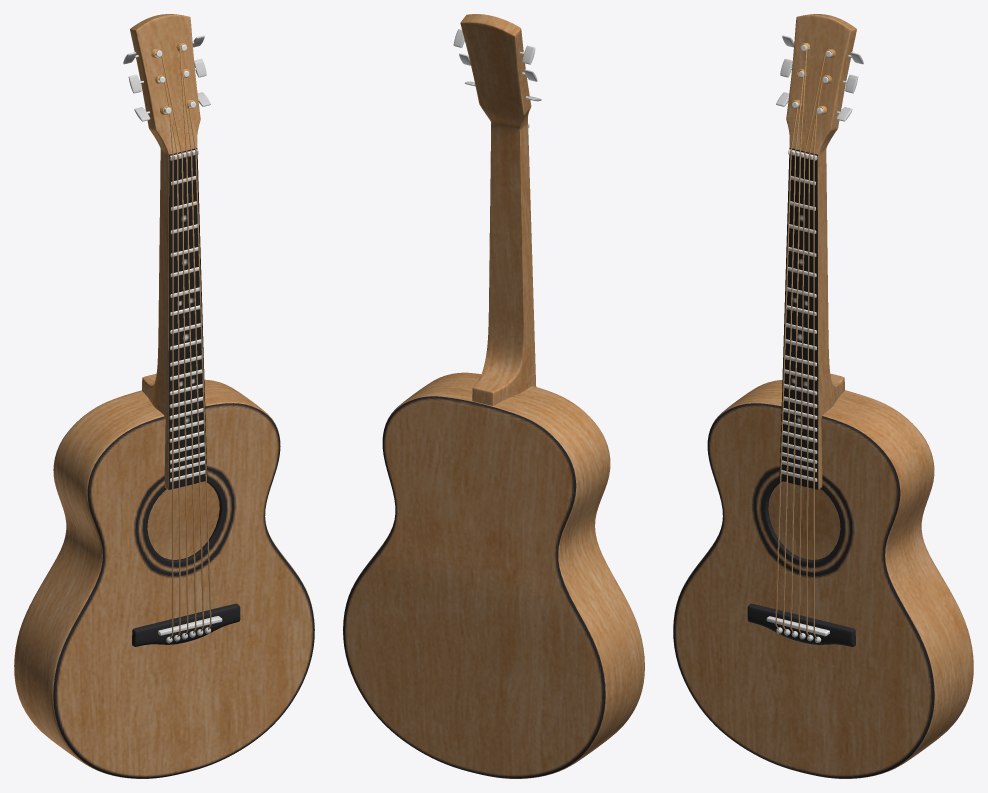
The model's file is guitar_df7ea68f.glb.
The picture shows the model from 3 angles, left to right: view 1: azimuth 30°, elevation 25°; view 2: azimuth 150°, elevation 25°; view 3: azimuth 330°, elevation 25°; orthographic projection.
Visible parts, largest first — view 1: body, grif, strings, metall, dark_wood, white; view 2: body, grif, white; view 3: body, grif, strings, metall, dark_wood, white.
Boxes of the visible parts, x1,y1,x2,y2 form: body: (14, 379, 314, 778); grif: (130, 14, 207, 489); strings: (151, 43, 211, 638); metall: (135, 41, 205, 482); dark_wood: (132, 603, 240, 646); white: (123, 35, 222, 643); body: (343, 372, 644, 778); grif: (460, 14, 536, 405); white: (453, 29, 541, 127); body: (673, 380, 973, 778); grif: (779, 14, 856, 489); strings: (775, 43, 835, 638); metall: (781, 41, 851, 481); dark_wood: (747, 603, 855, 646); white: (766, 35, 863, 642).
Bounding box in the file's own units: 0.3349 × 0.897 × 0.1066.
Materials: 1 (1 with a texture image).
